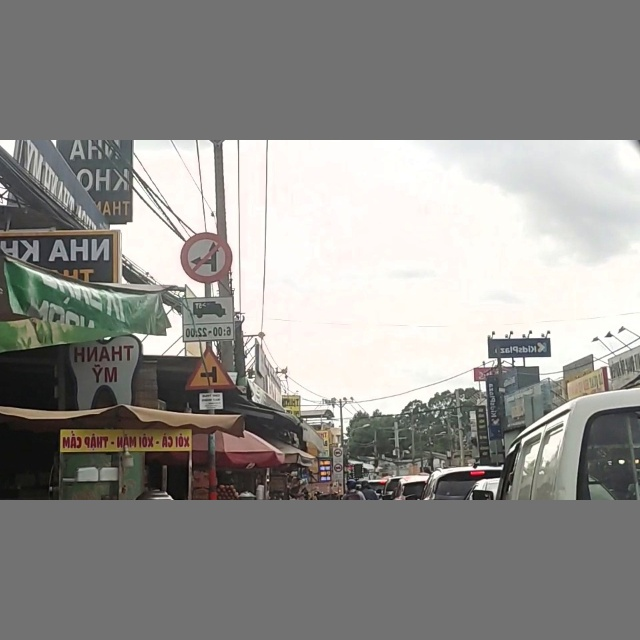P.139: (181, 232, 231, 282)
S.505a*Xe tai: (183, 298, 235, 338)
W.205b: (182, 347, 235, 389)
